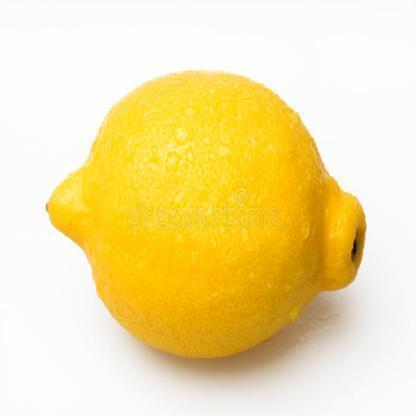lemon: (45, 69, 366, 359)
